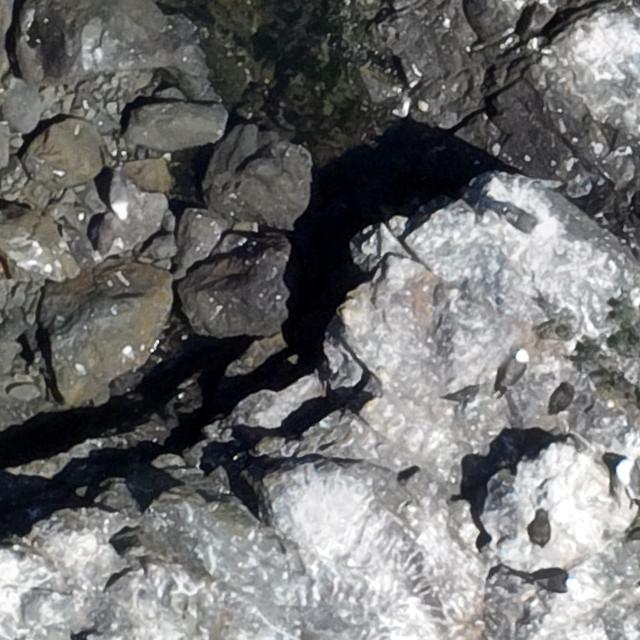umineko: (502, 205, 548, 239), (109, 176, 132, 219), (527, 572, 576, 592), (620, 460, 640, 498), (506, 351, 526, 383)
